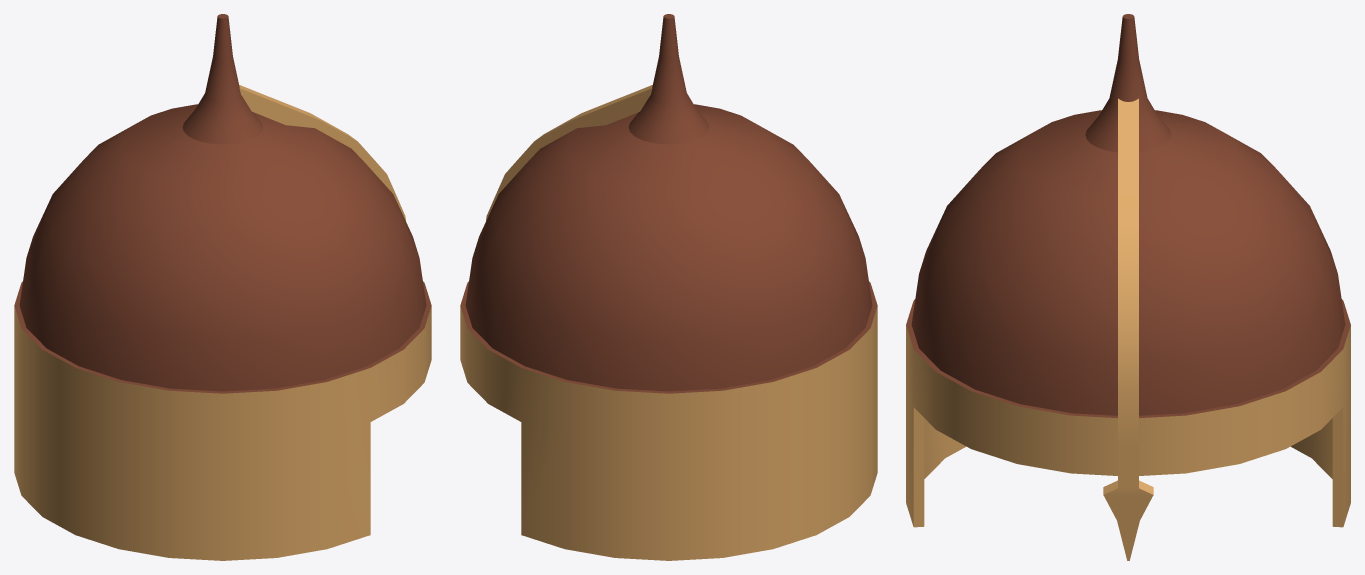
The model's file is Helmet.fbx.
3 views of the same model, side by side, from view 1: azimuth 30°, elevation 25°; view 2: azimuth 150°, elevation 25°; view 3: azimuth 270°, elevation 25° (orthographic). The views are drawn at different scales.
Visible parts, largest first — view 1: Sphere, Sphere.001; view 2: Sphere, Sphere.001; view 3: Sphere, Sphere.001.
Boxes of the visible parts, x1=… form: Sphere: x1=14, y1=14, x2=431, y2=560; Sphere.001: x1=239, y1=85, x2=405, y2=220; Sphere: x1=460, y1=14, x2=877, y2=560; Sphere.001: x1=486, y1=85, x2=652, y2=220; Sphere: x1=906, y1=14, x2=1350, y2=527; Sphere.001: x1=1103, y1=98, x2=1153, y2=560.
Bounding box in the file's own units: 207 × 248 × 205.
